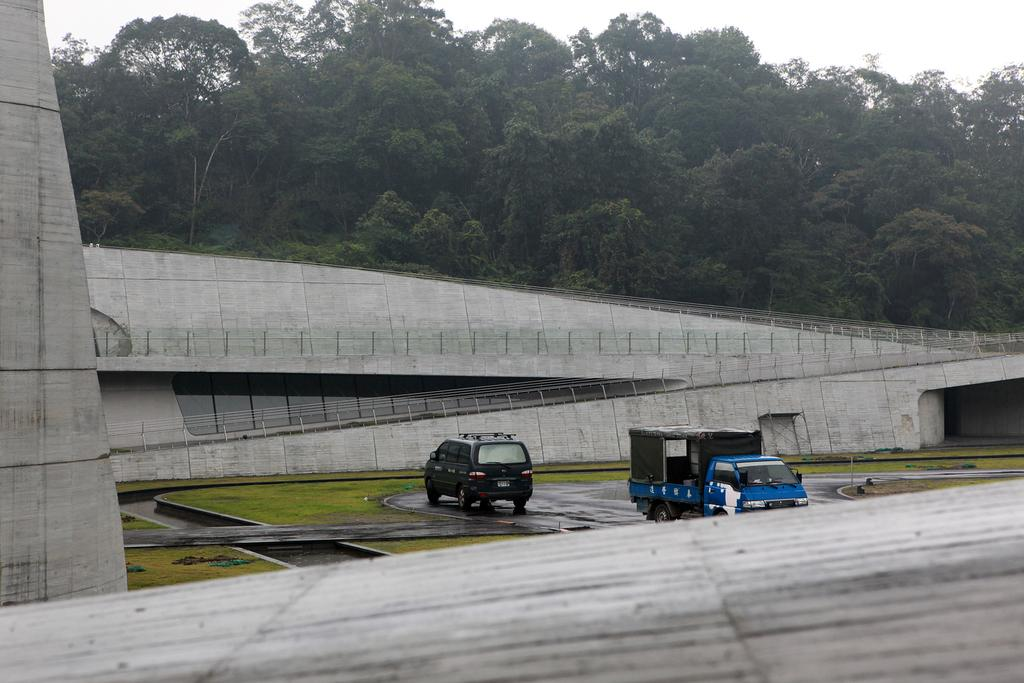vehicle: (627, 424, 809, 524), (424, 433, 536, 511)
